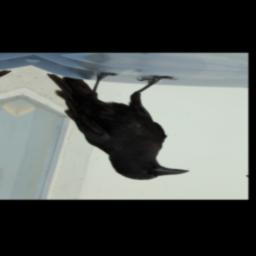Crow: (19, 65, 219, 184)
